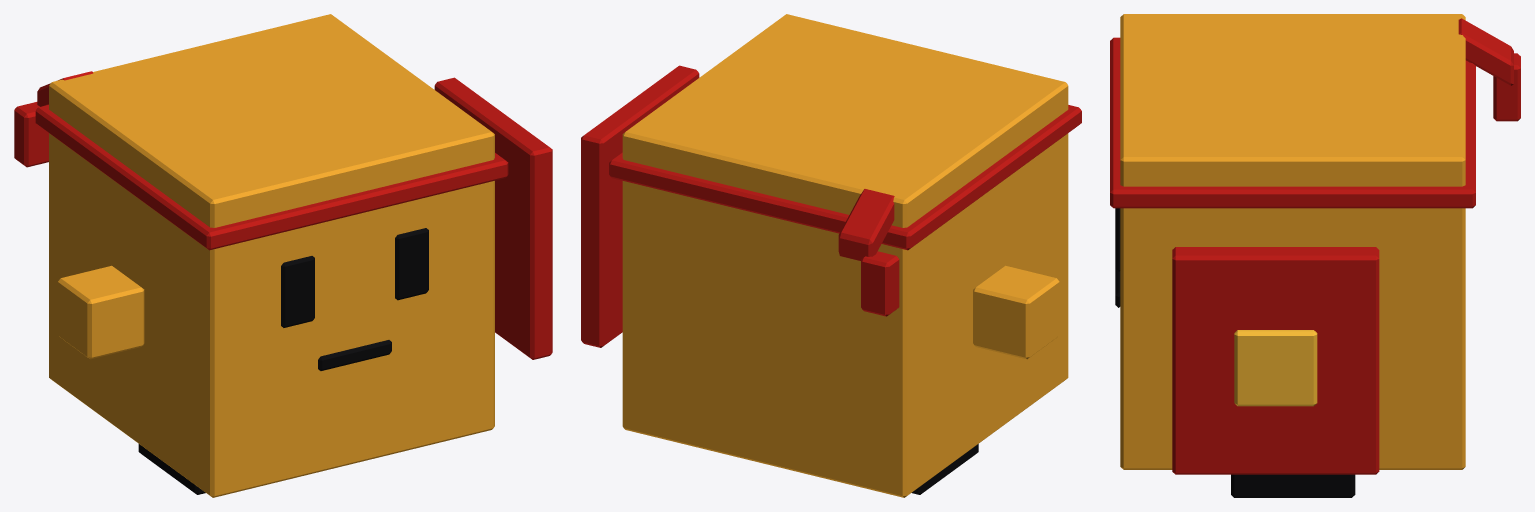
Rendered from Hero_Player.obj.
3 views of the same model, side by side, from view 1: azimuth 30°, elevation 25°; view 2: azimuth 150°, elevation 25°; view 3: azimuth 270°, elevation 25° (orthographic). The views are drawn at different scales.
Visible parts, largest first — view 1: Hero_Player; view 2: Hero_Player; view 3: Hero_Player.
Boxes of the visible parts, x1,y1,x2,y2 form: Hero_Player: (14,14,552,497); Hero_Player: (581,14,1081,497); Hero_Player: (1110,14,1520,497).
Bounding box in the file's own units: 1.51 × 1.15 × 1.19.
